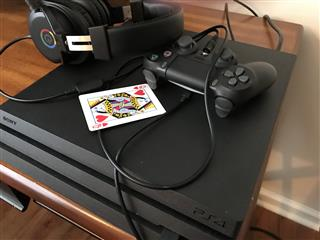QueenOfHearts: (77, 82, 166, 131)
